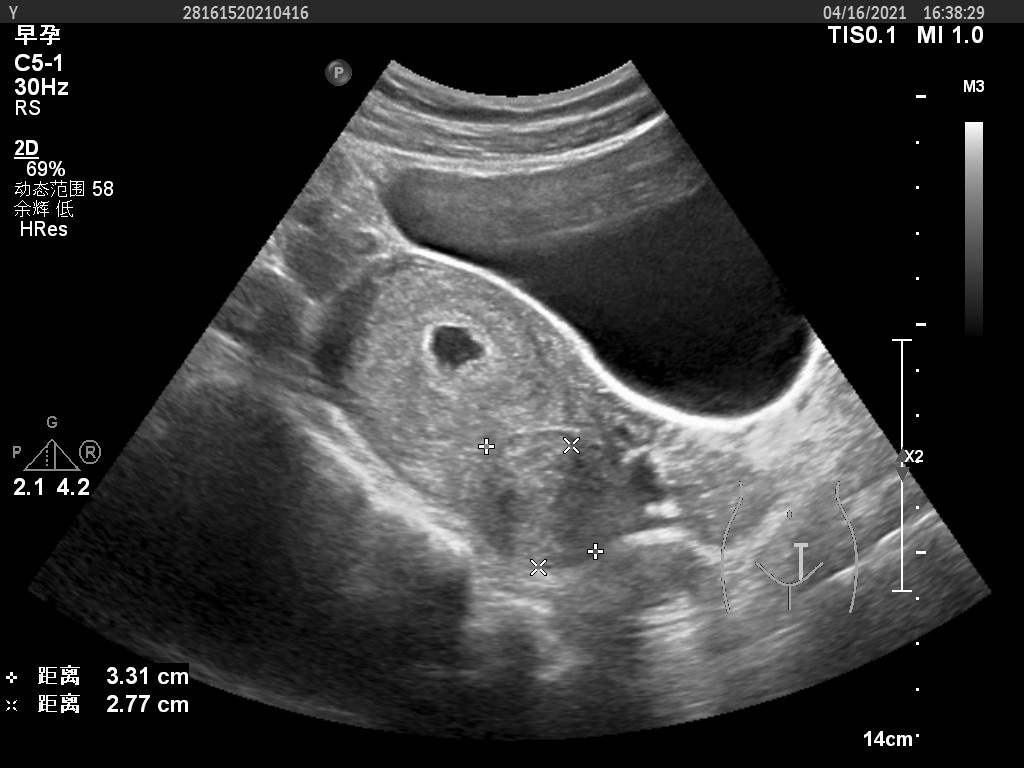肌瘤: (485, 444, 600, 570)
